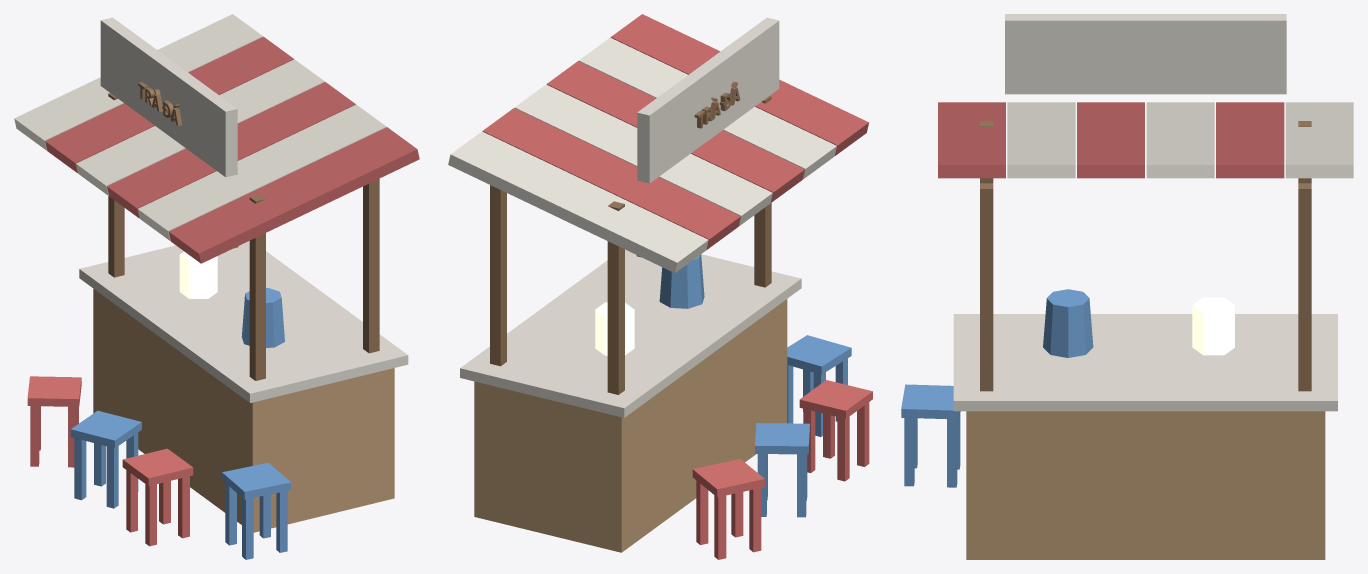
Rendered from LP_Stall_TraDa.fbx.
3 renders of one model, left to right at view 1: azimuth 30°, elevation 25°; view 2: azimuth 150°, elevation 25°; view 3: azimuth 270°, elevation 25°, orthographic. The views are drawn at different scales.
Visible parts, largest first — view 1: CartBody, CartTop, Strip_0, Sign, Strip_1, Strip_2, Strip_3, Strip_5, Strip_4, PostB_-0.8, PostF_-0.8, Seat.001 (+18 smaller); view 2: CartBody, CartTop, Strip_5, Sign, Strip_4, Strip_3, Strip_2, Strip_0, Strip_1, PostB_0.8, PostF_0.8, Seat (+16 smaller); view 3: CartBody, CartTop, Sign, Strip_1, Strip_3, Strip_4, Strip_5, Strip_2, Strip_0, TeaJugA, PostB_0.8, PostB_-0.8 (+4 smaller).
Part boxes in pixels (x1=…): CartBody: x1=93, y1=289, x2=394, y2=532; CartTop: x1=79, y1=241, x2=408, y2=402; Strip_0: x1=168, y1=127, x2=419, y2=263; Sign: x1=100, y1=17, x2=237, y2=177; Strip_1: x1=138, y1=104, x2=386, y2=240; Strip_2: x1=107, y1=82, x2=355, y2=218; Strip_3: x1=76, y1=59, x2=324, y2=195; Strip_5: x1=14, y1=14, x2=262, y2=150; Strip_4: x1=45, y1=36, x2=293, y2=173; PostB_-0.8: x1=363, y1=178, x2=379, y2=353; PostF_-0.8: x1=249, y1=194, x2=265, y2=380; Seat.001: x1=70, y1=410, x2=141, y2=448; CartBody: x1=474, y1=299, x2=787, y2=552; CartTop: x1=460, y1=249, x2=801, y2=417; Strip_5: x1=448, y1=131, x2=708, y2=272; Sign: x1=637, y1=17, x2=779, y2=183; Strip_4: x1=482, y1=108, x2=740, y2=249; Strip_3: x1=514, y1=84, x2=772, y2=225; Strip_2: x1=546, y1=61, x2=804, y2=202; Strip_0: x1=610, y1=14, x2=868, y2=155; Strip_1: x1=578, y1=37, x2=836, y2=179; PostB_0.8: x1=490, y1=185, x2=506, y2=366; PostF_0.8: x1=607, y1=201, x2=624, y2=394; Seat: x1=799, y1=380, x2=872, y2=418; CartBody: x1=966, y1=411, x2=1325, y2=559; CartTop: x1=953, y1=314, x2=1337, y2=411; Sign: x1=1005, y1=14, x2=1286, y2=94; Strip_1: x1=1007, y1=102, x2=1075, y2=178; Strip_3: x1=1146, y1=102, x2=1214, y2=178; Strip_4: x1=1216, y1=102, x2=1284, y2=178; Strip_5: x1=1285, y1=102, x2=1353, y2=178; Strip_2: x1=1077, y1=102, x2=1144, y2=178; Strip_0: x1=938, y1=102, x2=1005, y2=178; TeaJugA: x1=1043, y1=289, x2=1093, y2=357; PostB_0.8: x1=1298, y1=183, x2=1311, y2=391; PostB_-0.8: x1=980, y1=183, x2=993, y2=391.
Bounding box in the file's own units: 1.72 × 2.63 × 2.33.
